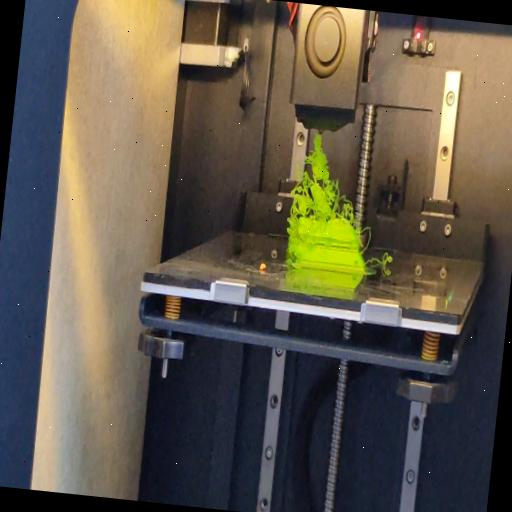spaghetti: (286, 132, 364, 226), (282, 220, 298, 261), (368, 250, 393, 269), (357, 224, 373, 252)
